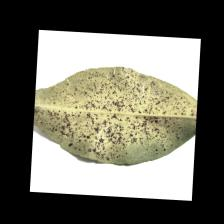canker: (58, 81, 157, 143)
